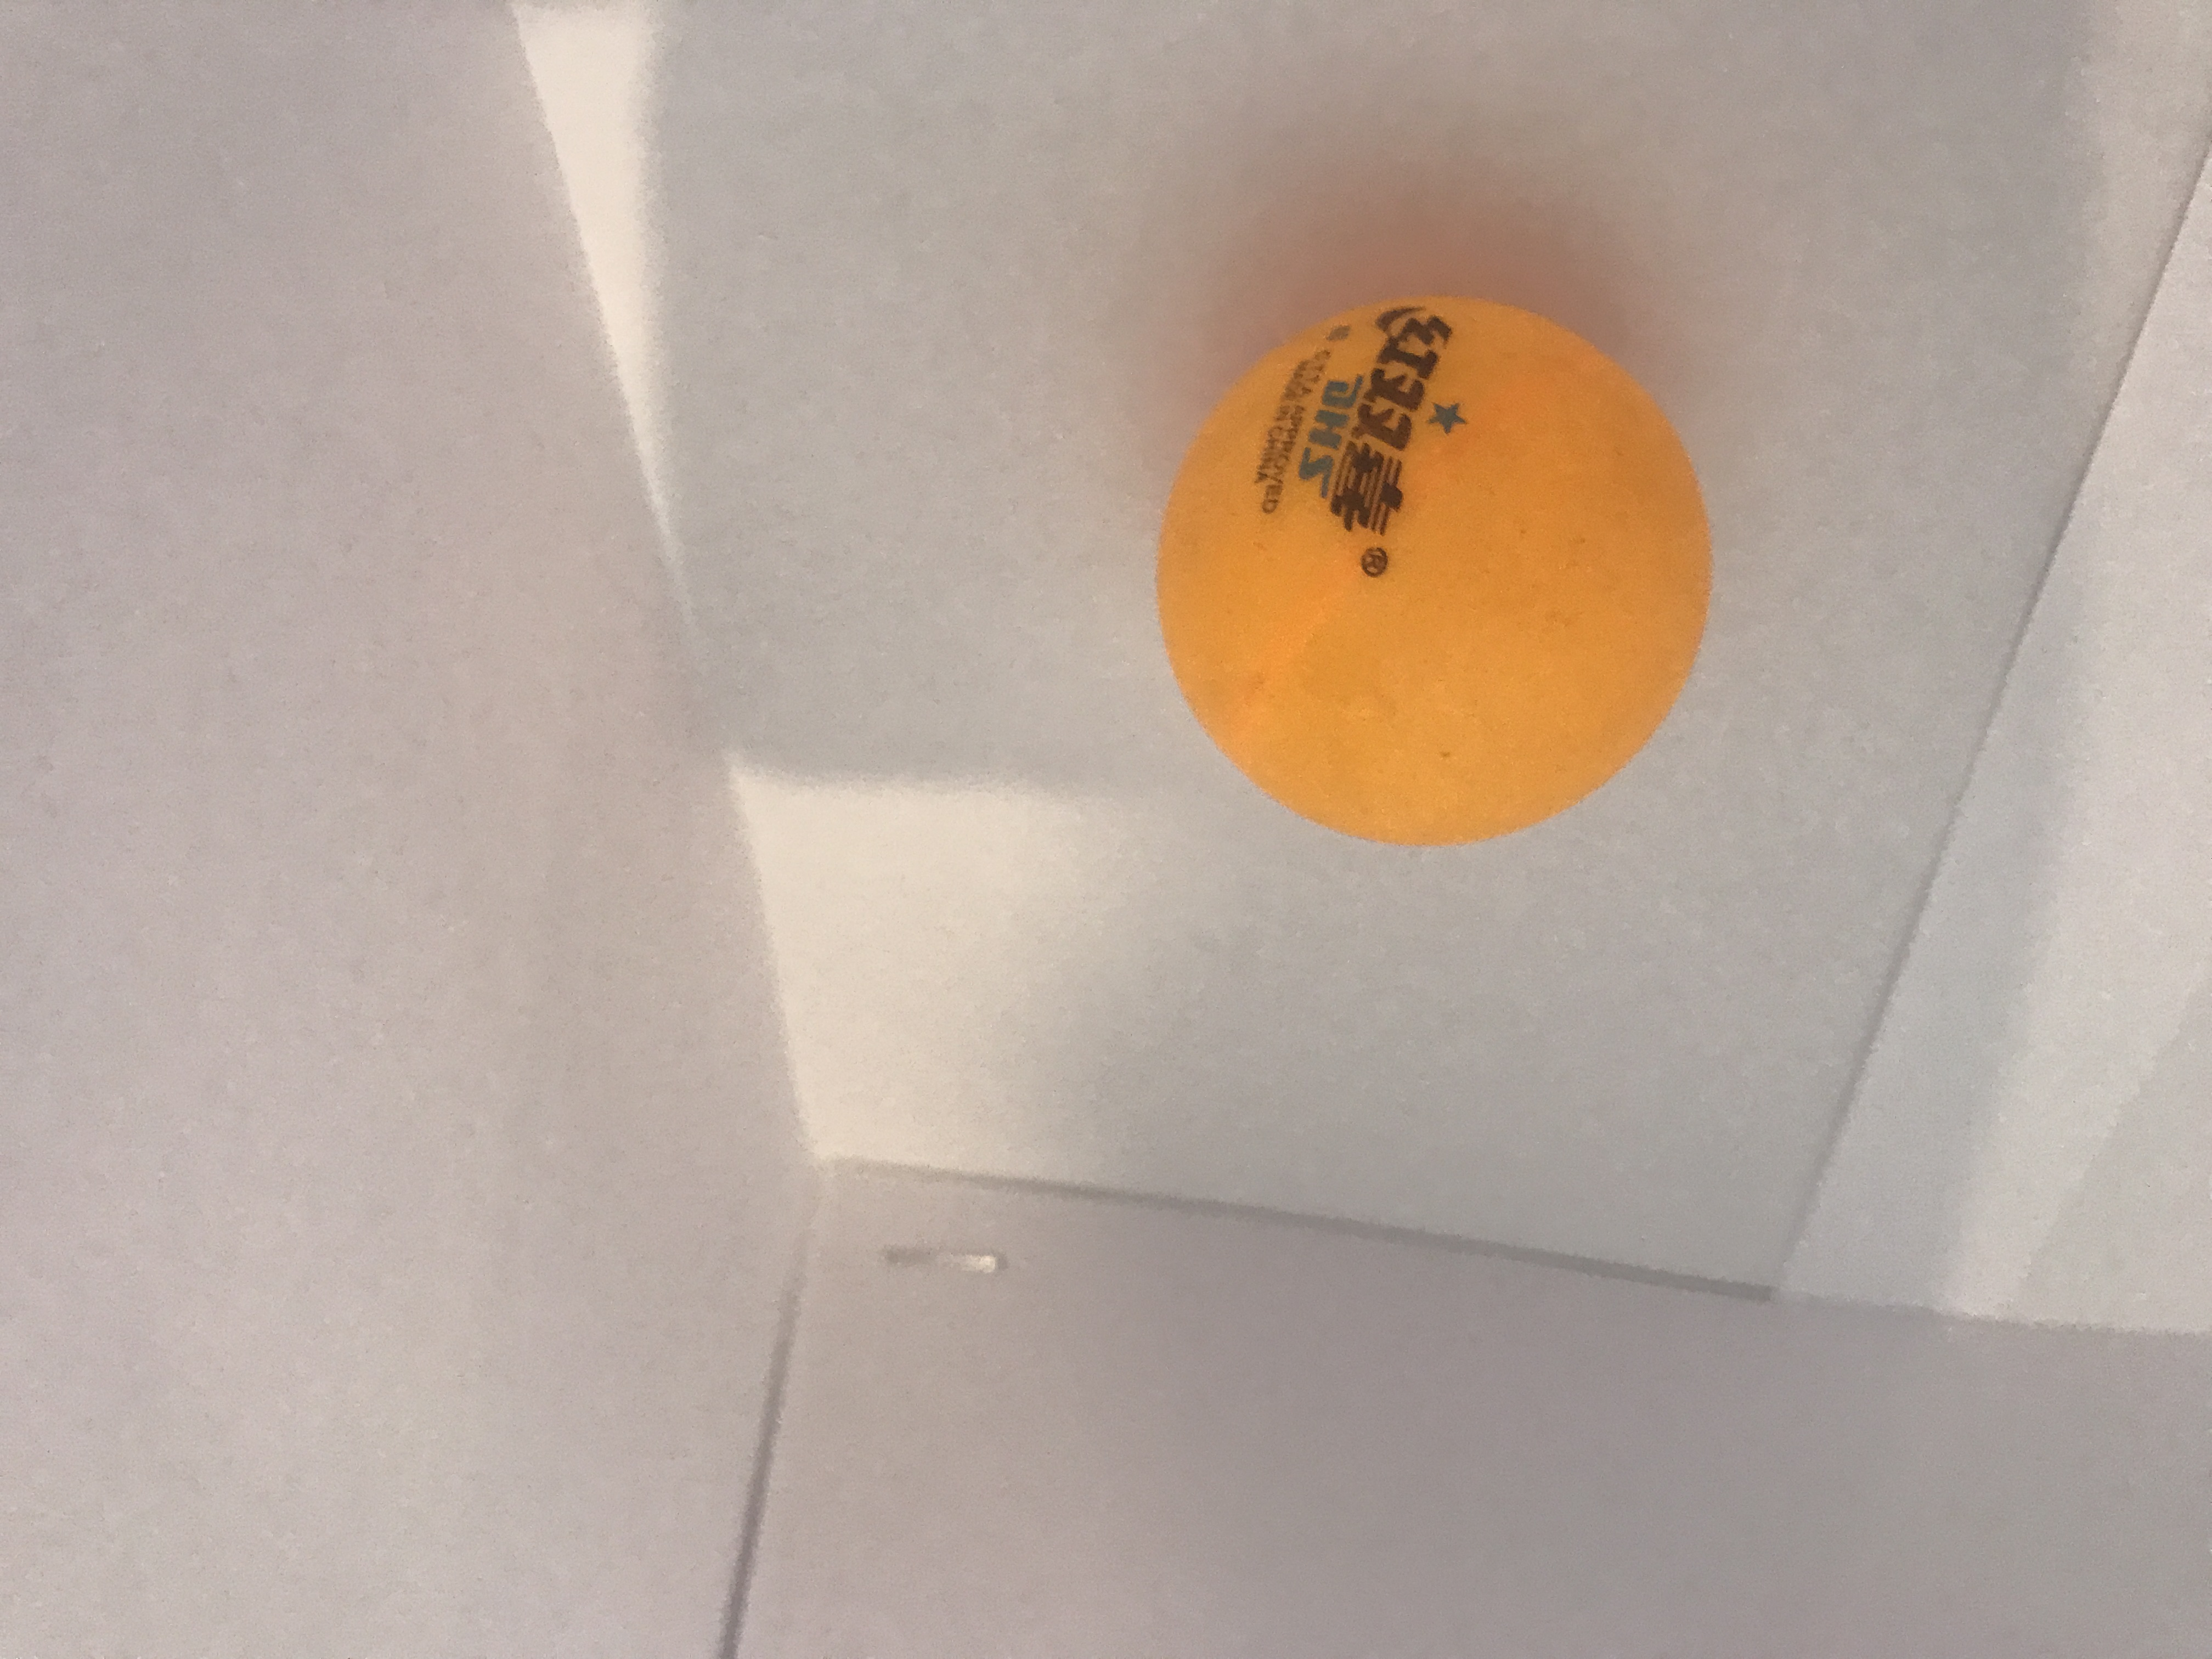pp: (1157, 284, 1719, 863)
